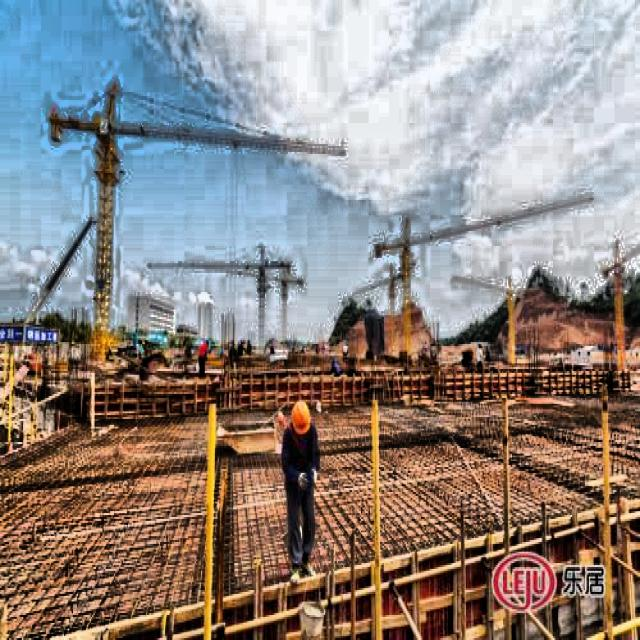helmet: (290, 396, 315, 440)
